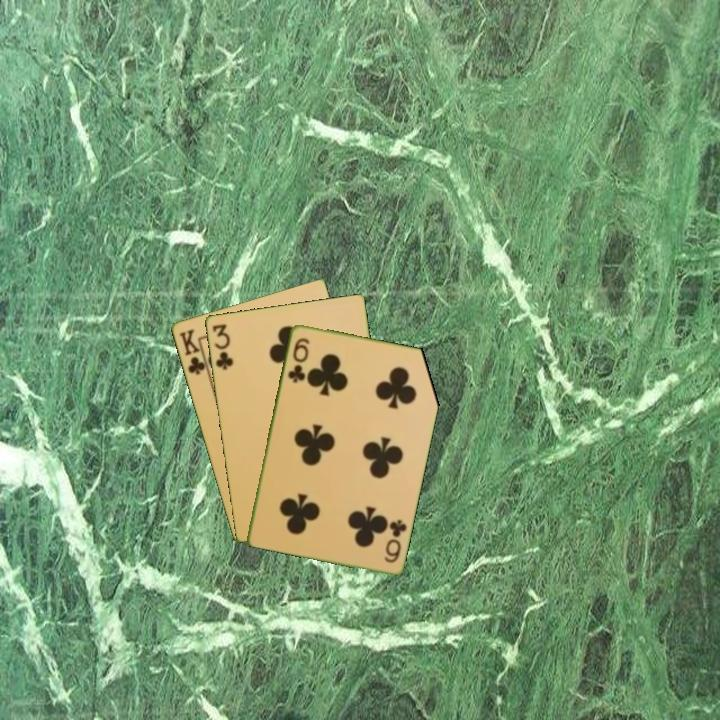3c: (209, 320, 236, 372)
6c: (284, 334, 312, 385), (381, 515, 409, 566)
Kc: (175, 325, 211, 378)
